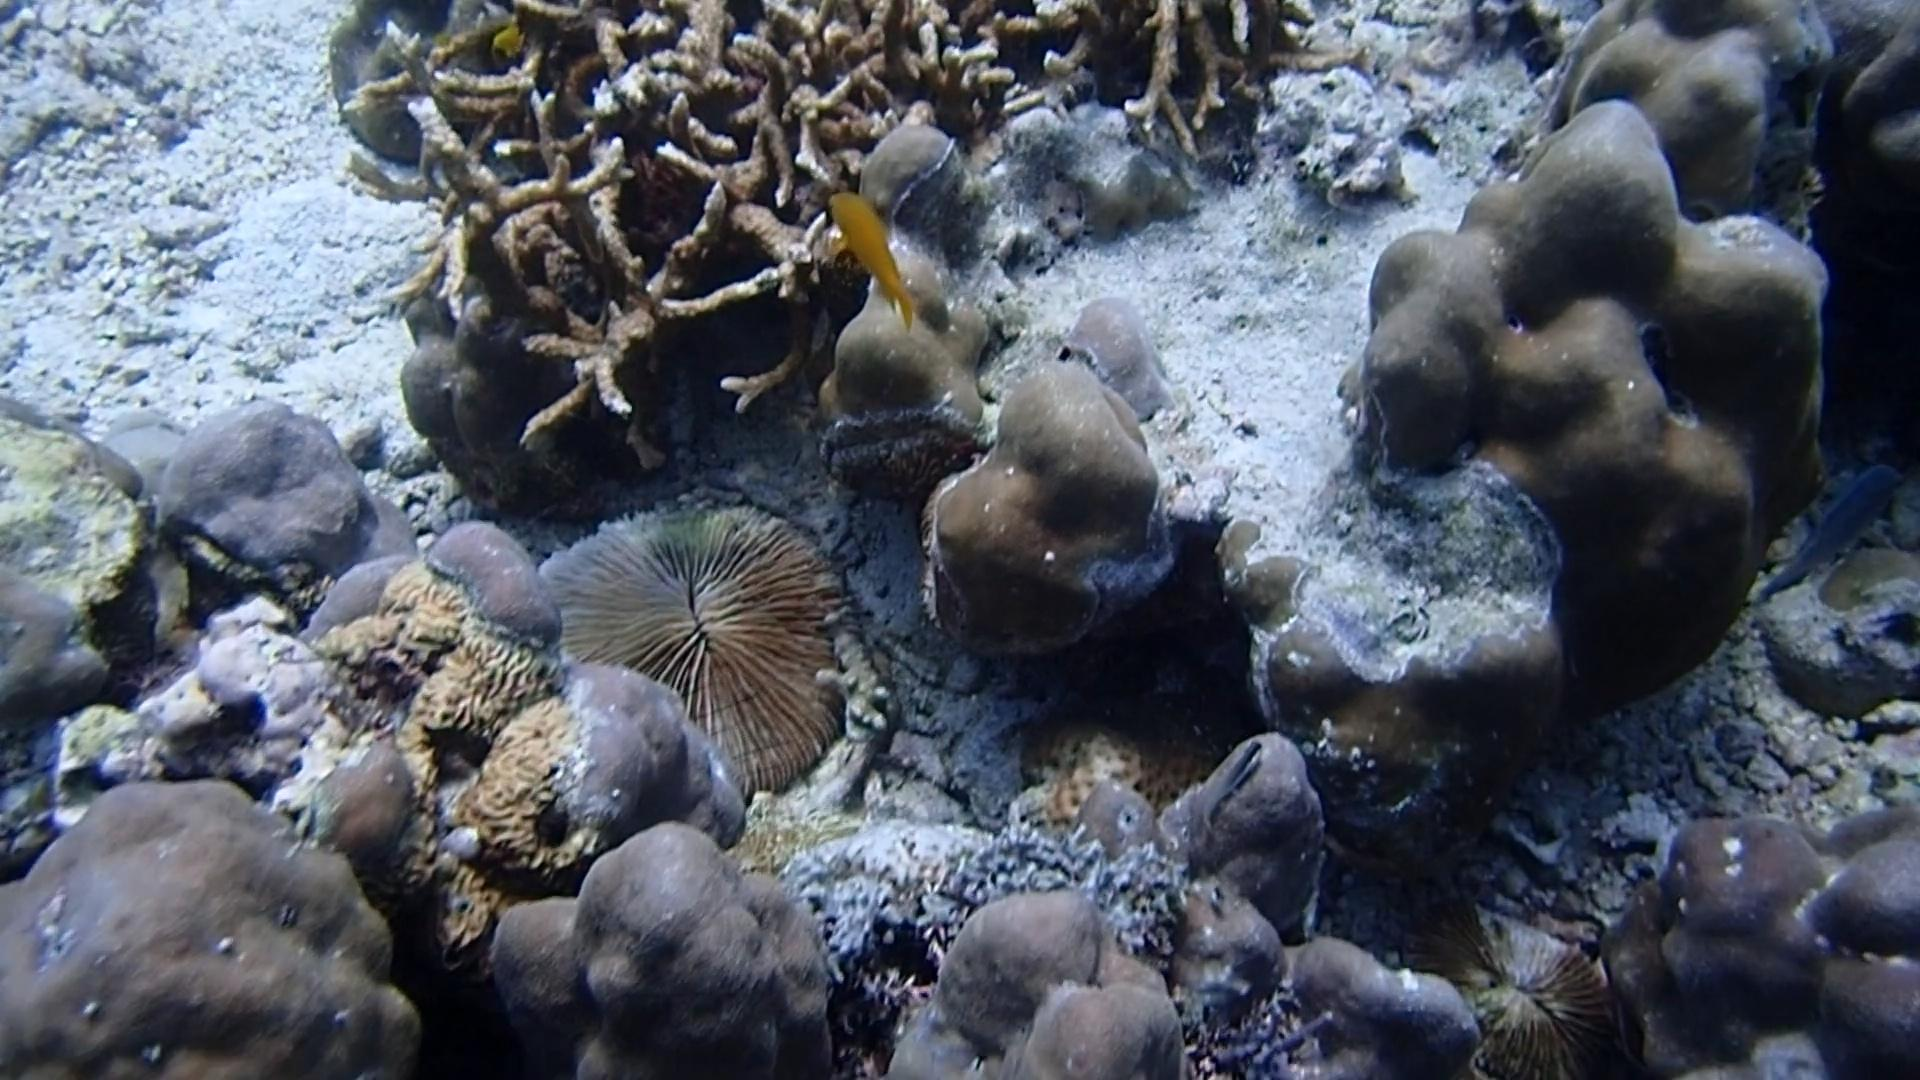Yellow Fish: (822, 185, 920, 330), (484, 20, 535, 61)
